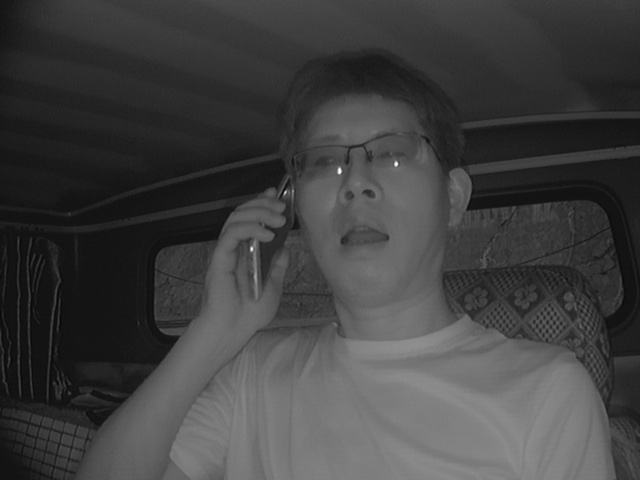hand: (207, 188, 291, 336)
